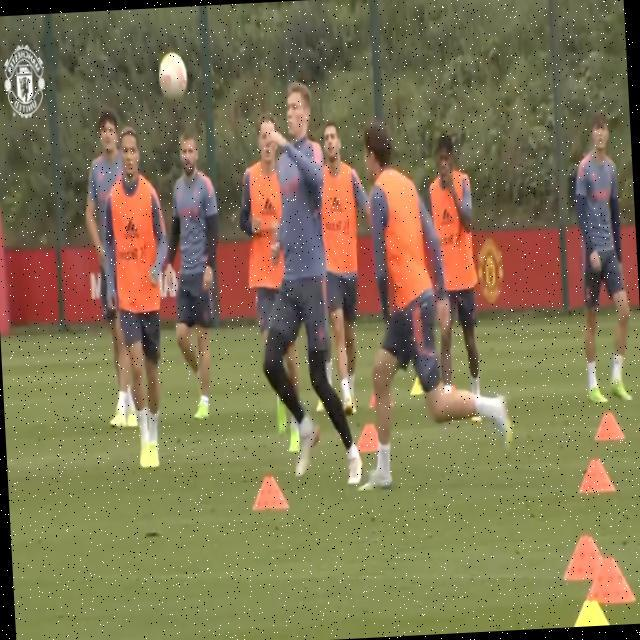Adidas: (260, 194, 279, 218), (124, 216, 141, 241), (440, 205, 456, 230), (328, 193, 345, 214)
